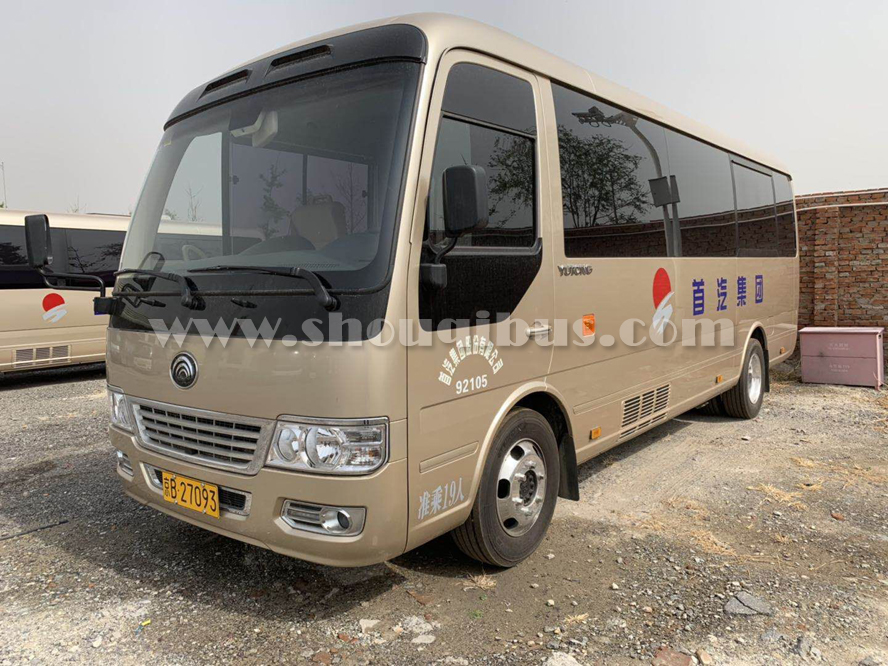midcar: (99, 11, 808, 587)
